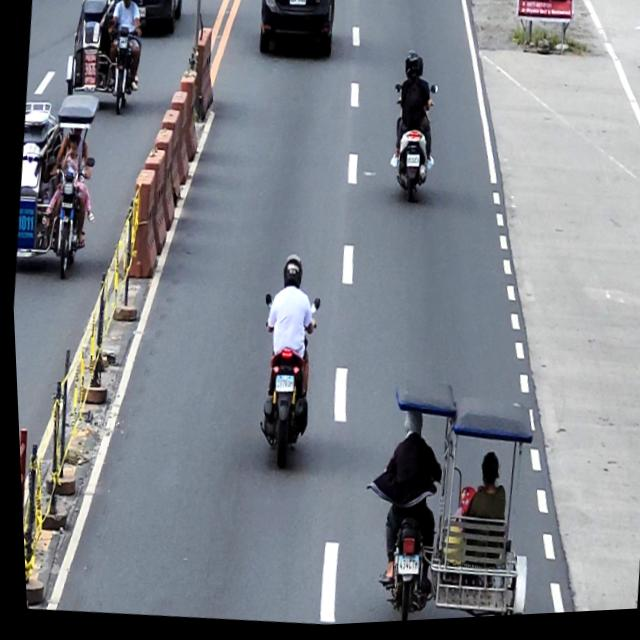Car: (255, 0, 339, 64), (99, 0, 188, 43)
License-Plate: (389, 556, 416, 581), (270, 376, 291, 398), (403, 156, 419, 172), (288, 0, 307, 9)
Motorcycle: (244, 292, 323, 475), (381, 83, 441, 209)
Tricycle: (344, 375, 542, 627), (7, 89, 104, 284), (58, 0, 150, 120)
